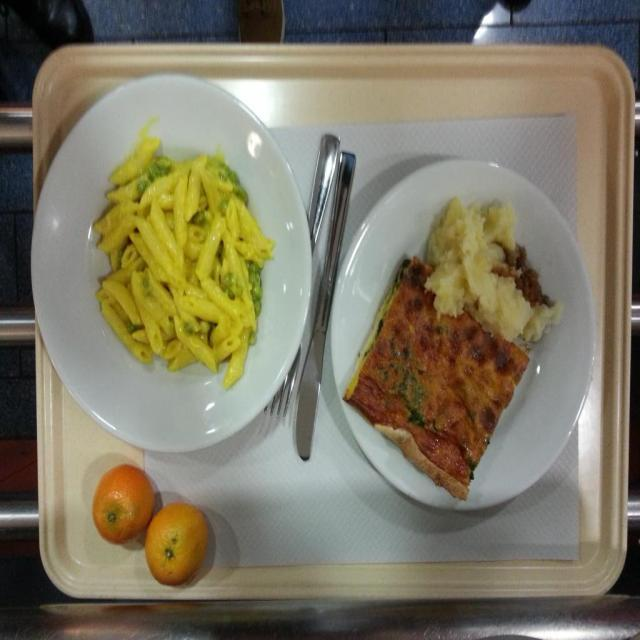plate: (30, 72, 312, 452), (332, 148, 596, 511), (148, 504, 208, 584), (93, 464, 152, 543)
